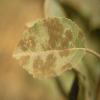Apple Scab Leaf: (11, 16, 86, 81)
